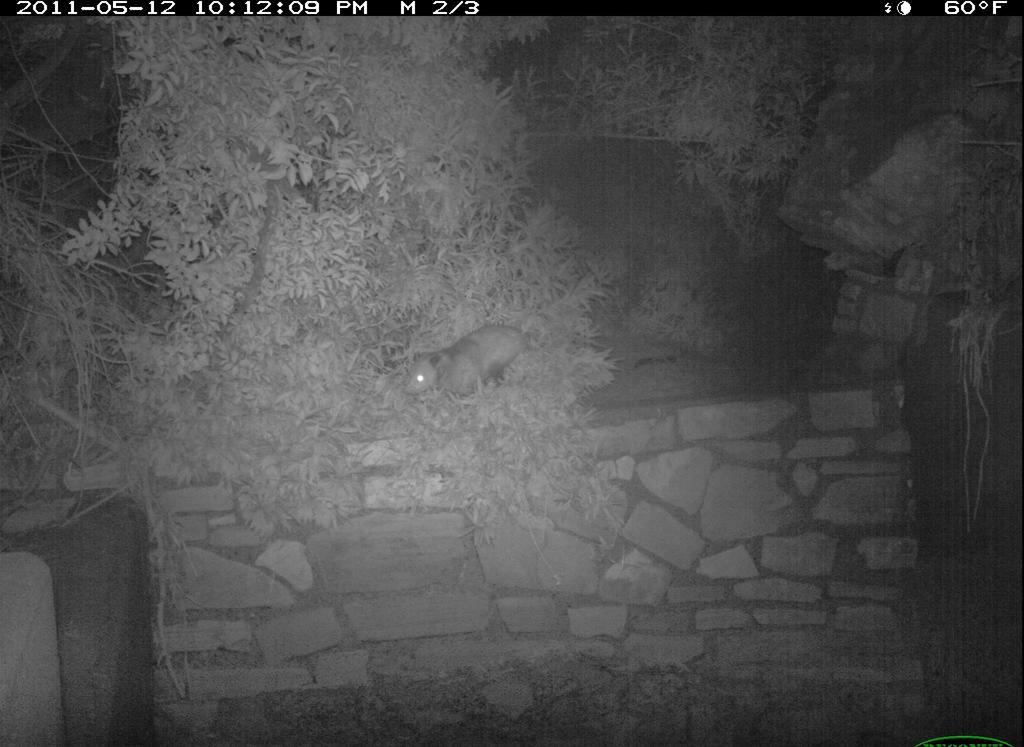opossum: (395, 310, 574, 428)
